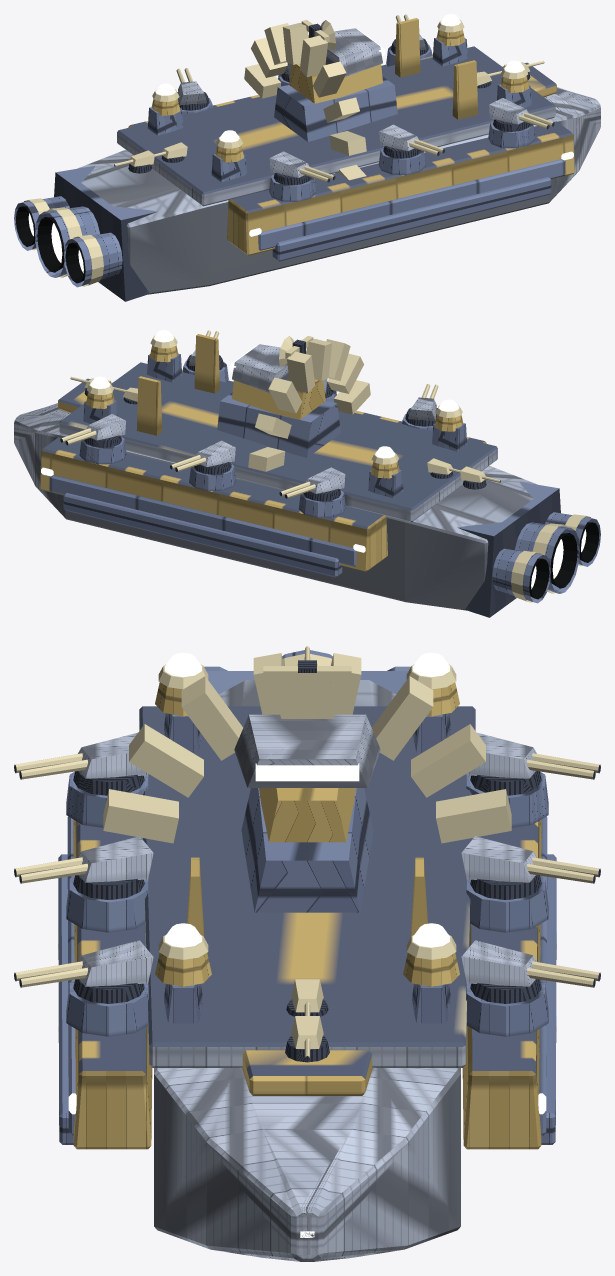
The model's file is cruiser.glb.
The picture shows the model from 3 angles, top to bottom: view 1: azimuth 30°, elevation 25°; view 2: azimuth 150°, elevation 25°; view 3: azimuth 270°, elevation 25°; orthographic projection. The views are drawn at different scales.
Parts seen in each view (by area): view 1: hull_body, engine_block, weapon_turrets, sensor_tower, shield_pylons; view 2: hull_body, engine_block, weapon_turrets, sensor_tower, shield_pylons; view 3: hull_body, weapon_turrets, sensor_tower, shield_pylons, engine_block.
Part boxes in pixels (<box>): hull_body: <box>77,18,600,294</box>; engine_block: <box>14,166,157,301</box>; weapon_turrets: <box>114,14,554,201</box>; sensor_tower: <box>274,20,397,141</box>; shield_pylons: <box>147,14,531,182</box>; hull_body: <box>14,334,537,610</box>; engine_block: <box>457,482,600,617</box>; weapon_turrets: <box>60,330,500,517</box>; sensor_tower: <box>217,336,340,457</box>; shield_pylons: <box>83,330,467,498</box>; hull_body: <box>58,653,556,1261</box>; weapon_turrets: <box>14,646,600,1062</box>; sensor_tower: <box>234,660,380,912</box>; shield_pylons: <box>155,652,459,1023</box>; engine_block: <box>204,650,410,693</box>.
Size of the model in its own units: 42 by 14.8 by 20.03.
1 material, 1 textured.
